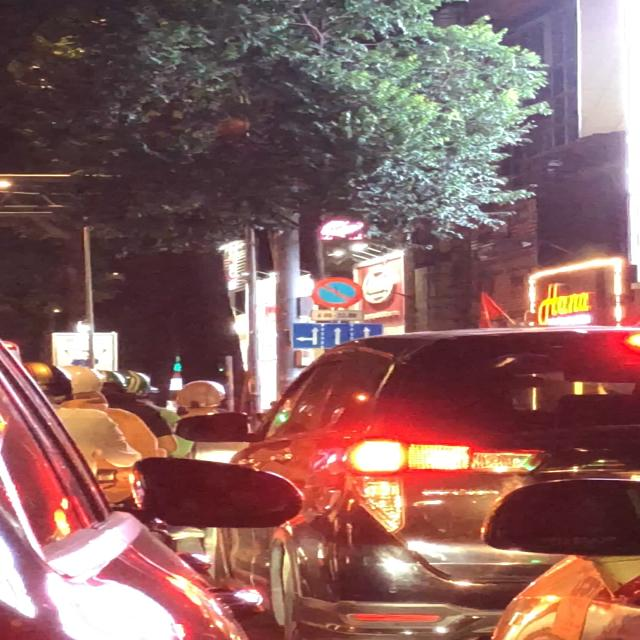Bien bao cam do xe: (308, 276, 365, 308)
